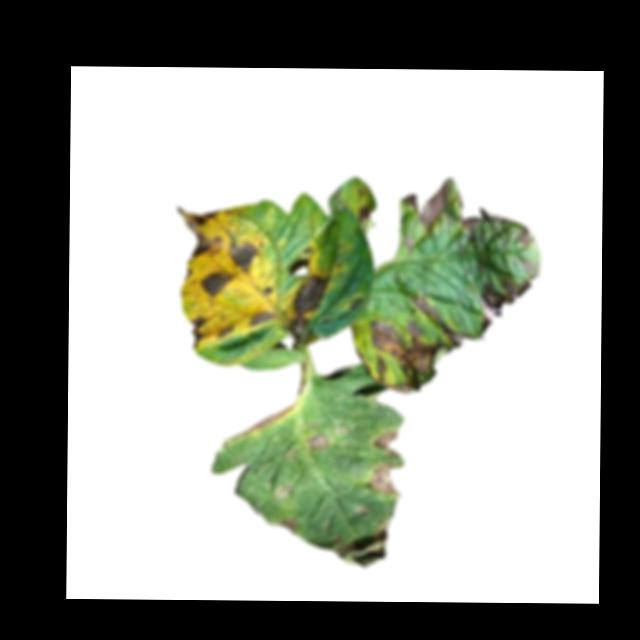Early_blight: (364, 296, 475, 395), (323, 517, 392, 571), (284, 272, 329, 349), (174, 203, 228, 260), (480, 278, 533, 336), (402, 179, 449, 232), (231, 403, 296, 441), (368, 464, 402, 498), (229, 239, 260, 274), (198, 270, 234, 299), (372, 430, 403, 461), (188, 317, 207, 350), (245, 310, 276, 329), (305, 433, 329, 453), (276, 517, 299, 536), (459, 214, 480, 232), (517, 229, 534, 250), (215, 326, 235, 342), (357, 203, 372, 222), (346, 298, 363, 313), (264, 287, 272, 297)
